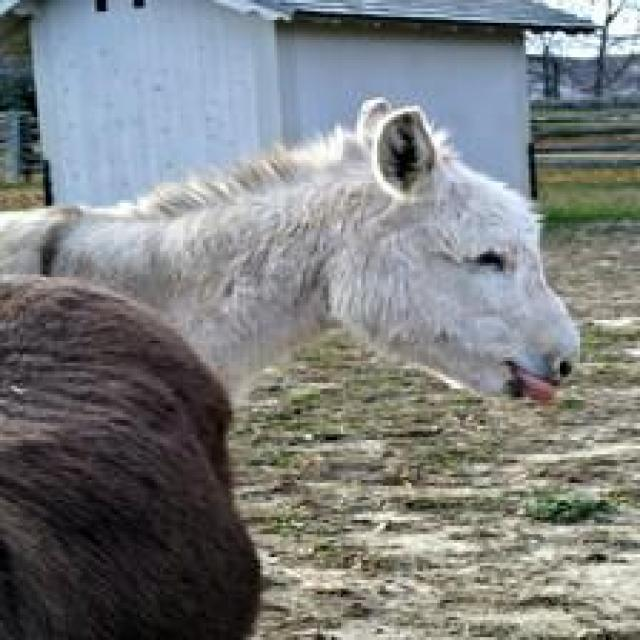Donkey: (0, 94, 580, 637), (0, 269, 263, 637)
